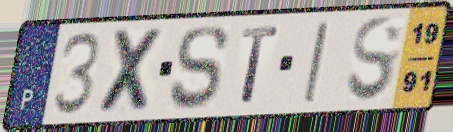3: (51, 30, 103, 117)
I: (300, 19, 331, 106)
S: (168, 23, 231, 112), (344, 14, 405, 105)
T: (239, 24, 281, 106)
X: (95, 26, 168, 116)
